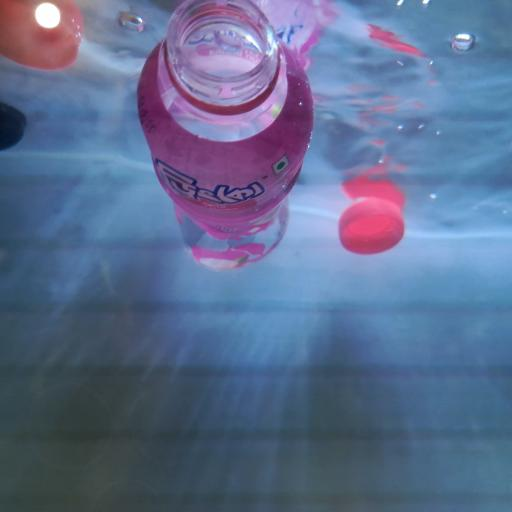bottle_cap: (2, 2, 84, 75), (337, 197, 407, 259), (0, 97, 28, 153)
plastic_bottle: (141, 0, 314, 267)
